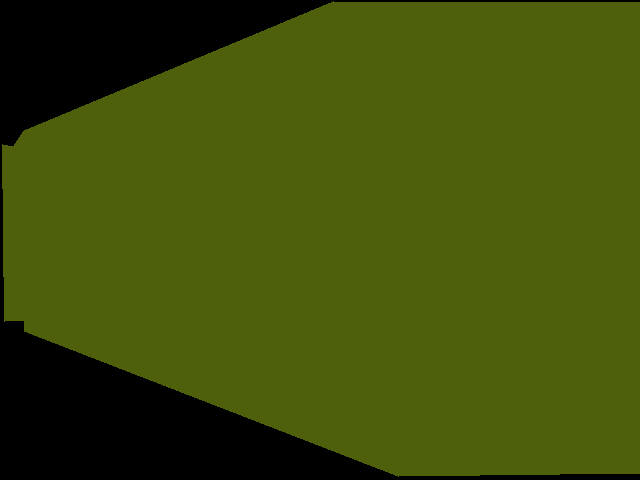Train: (2, 1, 640, 476)
